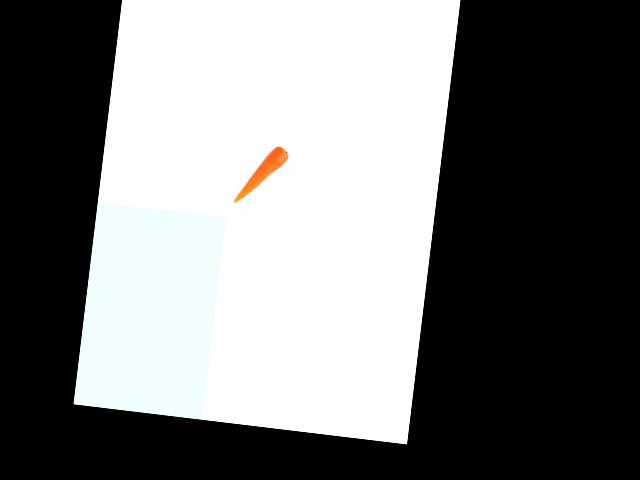carrot: (229, 140, 290, 212)
